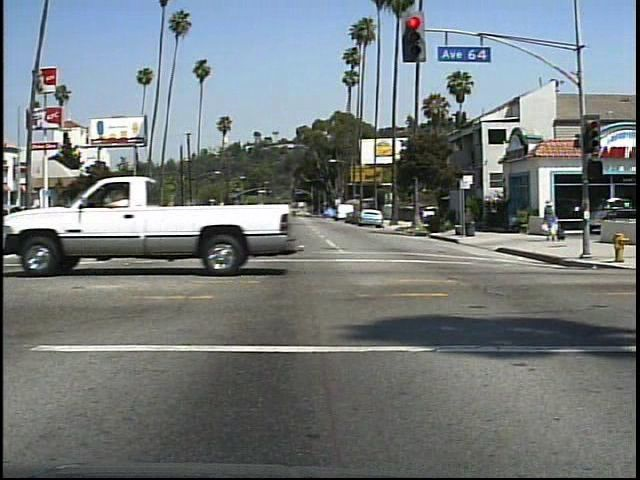person: (539, 194, 566, 248)
